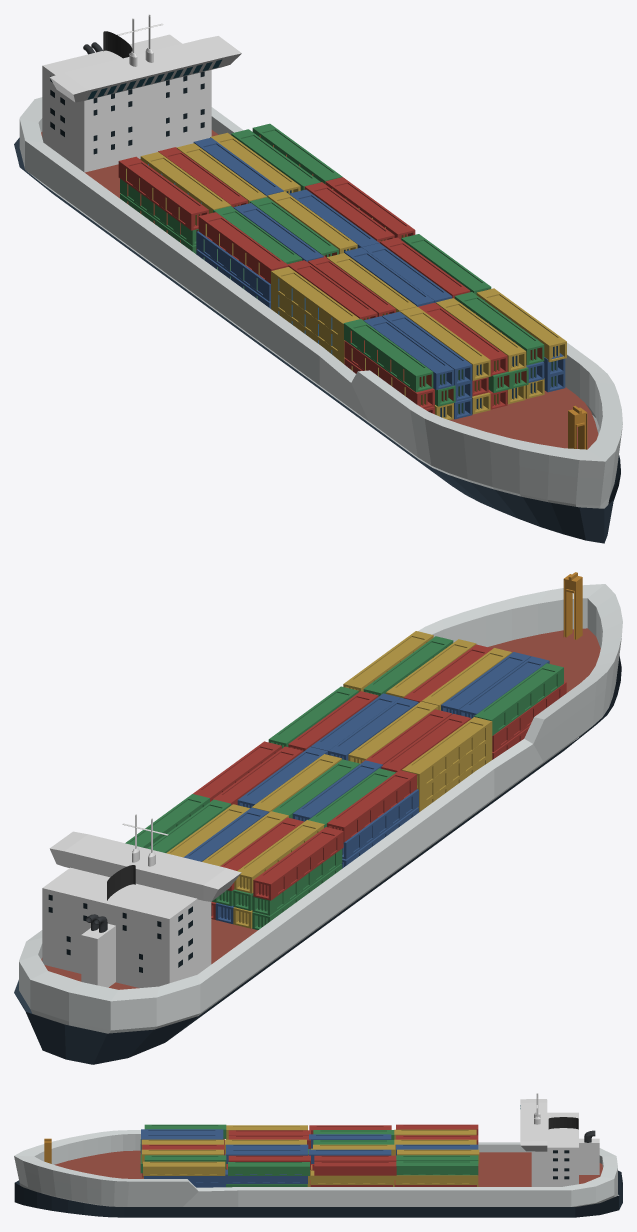
Rendered from container-ship.glb.
3 renders of one model, top to bottom at view 1: azimuth 30°, elevation 25°; view 2: azimuth 150°, elevation 25°; view 3: azimuth 270°, elevation 25°, orthographic. The views are drawn at different scales.
Visible parts, largest first — view 1: CargoShipMesh; view 2: CargoShipMesh; view 3: CargoShipMesh.
Boxes of the visible parts, <box> form: CargoShipMesh: <box>14,14,622,543</box>; CargoShipMesh: <box>14,572,622,1064</box>; CargoShipMesh: <box>14,1093,622,1217</box>.
Bounding box in the file's own units: 24 × 24 × 120.
